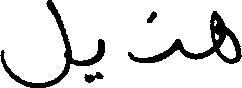X: (0, 0, 71, 87), (129, 6, 182, 67), (210, 6, 241, 68), (96, 34, 104, 83)
